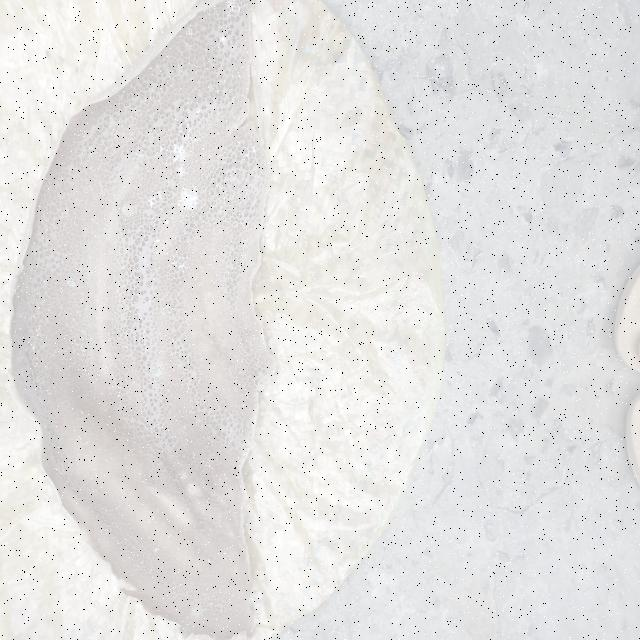injera_mold: (179, 186, 200, 212), (168, 256, 189, 271), (172, 142, 188, 161), (150, 361, 165, 378), (224, 2, 243, 14), (190, 602, 203, 618), (176, 165, 188, 181), (136, 152, 148, 166), (31, 326, 44, 337), (185, 28, 197, 39), (68, 274, 76, 289), (149, 195, 157, 210), (185, 122, 193, 133), (219, 34, 227, 44), (158, 144, 165, 155), (191, 136, 202, 142), (251, 145, 257, 156), (195, 106, 202, 115), (236, 70, 242, 80), (155, 238, 162, 246), (183, 40, 189, 49), (154, 546, 159, 556), (80, 343, 85, 353), (165, 218, 170, 228), (201, 144, 206, 153), (177, 124, 181, 134), (206, 559, 213, 564), (185, 101, 190, 107), (222, 78, 227, 84), (244, 154, 250, 158), (32, 346, 36, 351), (182, 232, 186, 237), (174, 236, 178, 241), (246, 50, 249, 56), (237, 140, 240, 146), (180, 240, 183, 246)
